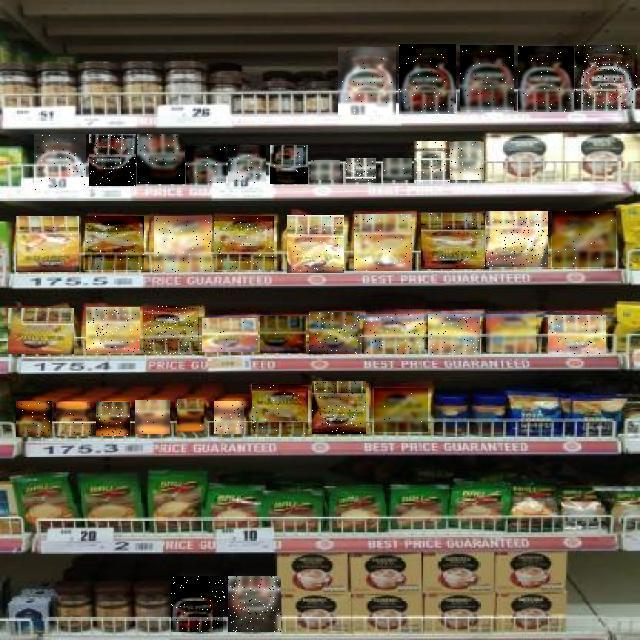Coffee: (399, 44, 456, 114), (575, 45, 637, 109), (338, 47, 396, 115), (518, 46, 574, 112), (552, 211, 616, 267), (421, 213, 485, 269), (460, 46, 514, 112), (16, 216, 79, 272), (487, 211, 549, 267), (354, 214, 412, 271), (287, 215, 344, 273), (214, 216, 274, 270), (154, 216, 211, 272), (85, 216, 144, 270), (8, 308, 74, 354), (172, 576, 226, 632), (228, 577, 281, 633), (34, 135, 86, 191), (312, 381, 366, 434), (252, 384, 308, 434), (144, 306, 202, 354), (86, 307, 140, 353), (89, 134, 136, 186), (137, 134, 185, 184), (364, 314, 424, 354), (374, 388, 428, 432), (549, 315, 607, 354), (310, 312, 362, 354), (429, 314, 481, 355), (202, 319, 258, 353), (487, 314, 537, 352), (260, 316, 306, 353), (415, 142, 451, 184), (270, 145, 308, 184), (186, 146, 226, 183), (228, 146, 266, 184), (16, 401, 52, 437), (450, 142, 484, 180), (56, 402, 92, 436), (135, 401, 170, 435), (96, 402, 130, 436), (178, 400, 208, 436), (214, 401, 244, 434), (346, 158, 376, 182), (383, 158, 412, 180), (311, 160, 340, 180)
